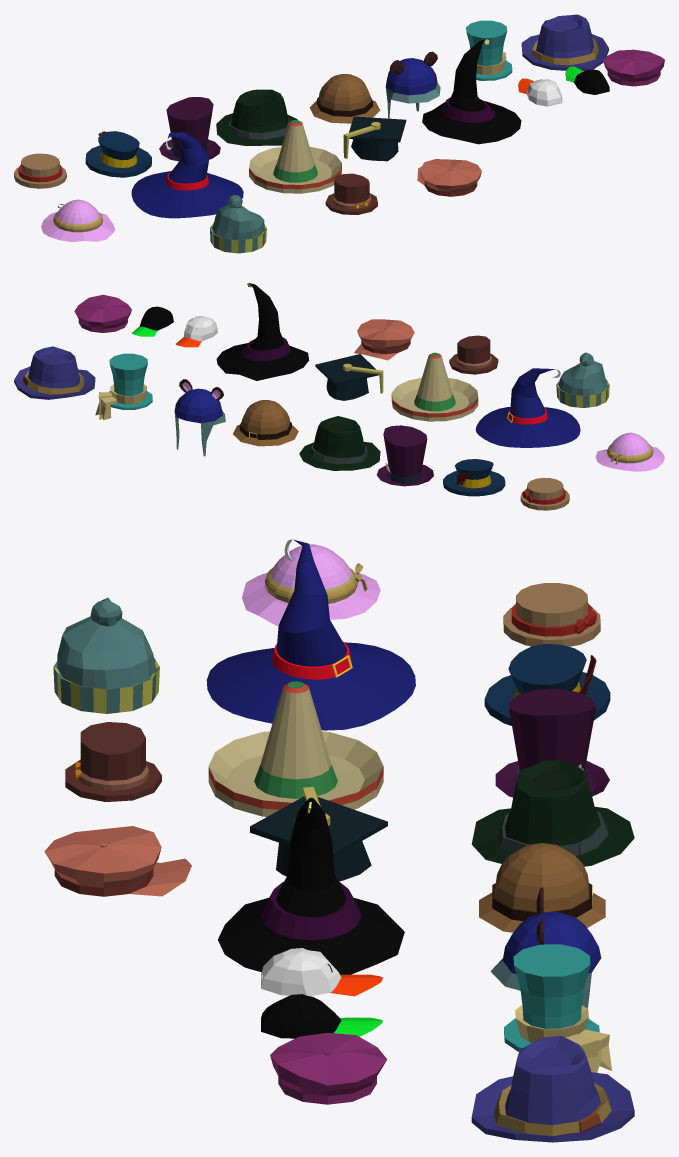
File: hatsfin.fbx
3 renders of one model, top to bottom at view 1: azimuth 30°, elevation 25°; view 2: azimuth 150°, elevation 25°; view 3: azimuth 270°, elevation 25°, orthographic. The views are drawn at different scales.
Visible parts, largest first — view 1: witchat, witchhat, big hat, fedora, hunters fedora, bowlhat, beanie, hatwithbow, bearhat, pinkhat, mad hatter hat, graduationcap (+7 smaller); view 2: witchat, witchhat, big hat, hunters fedora, fedora, mad hatter hat, tophat, bowlhat, beanie, graduationcap, bearhat, pinkhat (+7 smaller); view 3: witchat, witchhat, big hat, fedora, hunters fedora, beanie, tophat, bakershat, bowlhat, mad hatter hat, beret, goggle hat (+7 smaller).
Part boxes in pixels (x1=…): witchat: x1=131, y1=132, x2=243, y2=218; witchhat: x1=422, y1=39, x2=521, y2=144; big hat: x1=249, y1=120, x2=341, y2=193; fedora: x1=521, y1=14, x2=608, y2=70; hunters fedora: x1=216, y1=89, x2=297, y2=145; bowlhat: x1=309, y1=74, x2=380, y2=123; beanie: x1=210, y1=195, x2=266, y2=253; hatwithbow: x1=85, y1=131, x2=151, y2=177; bearhat: x1=385, y1=51, x2=440, y2=118; pinkhat: x1=41, y1=199, x2=115, y2=241; mad hatter hat: x1=159, y1=97, x2=220, y2=161; graduationcap: x1=343, y1=116, x2=406, y2=161; witchat: x1=475, y1=368, x2=580, y2=447; witchhat: x1=216, y1=282, x2=309, y2=380; big hat: x1=391, y1=352, x2=478, y2=421; hunters fedora: x1=299, y1=416, x2=380, y2=470; fedora: x1=14, y1=346, x2=95, y2=399; mad hatter hat: x1=376, y1=425, x2=433, y2=486; tophat: x1=95, y1=353, x2=152, y2=420; bowlhat: x1=233, y1=400, x2=298, y2=446; beanie: x1=556, y1=352, x2=609, y2=407; graduationcap: x1=315, y1=354, x2=383, y2=400; bearhat: x1=174, y1=379, x2=225, y2=456; pinkhat: x1=595, y1=432, x2=664, y2=471; witchat: x1=206, y1=539, x2=415, y2=730; witchhat: x1=218, y1=797, x2=404, y2=974; big hat: x1=208, y1=681, x2=383, y2=816; fedora: x1=471, y1=1036, x2=634, y2=1142; hunters fedora: x1=471, y1=760, x2=634, y2=866; beanie: x1=53, y1=597, x2=159, y2=713; tophat: x1=504, y1=944, x2=611, y2=1072; bakershat: x1=44, y1=826, x2=191, y2=896; bowlhat: x1=479, y1=843, x2=605, y2=932; mad hatter hat: x1=495, y1=688, x2=609, y2=797; beret: x1=270, y1=1032, x2=387, y2=1104; goggle hat: x1=65, y1=722, x2=161, y2=801.
Size of the model in its own units: 2713 by 528 by 1196.
